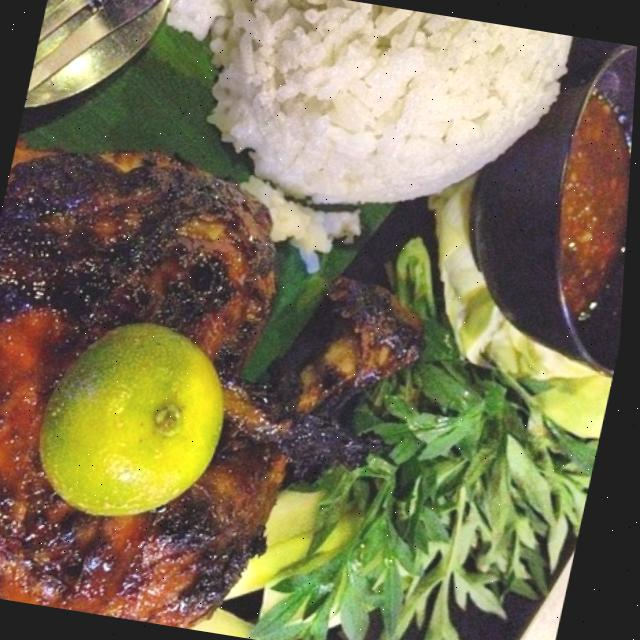鸡肉料理 含炸鸡: (0, 137, 446, 640)
